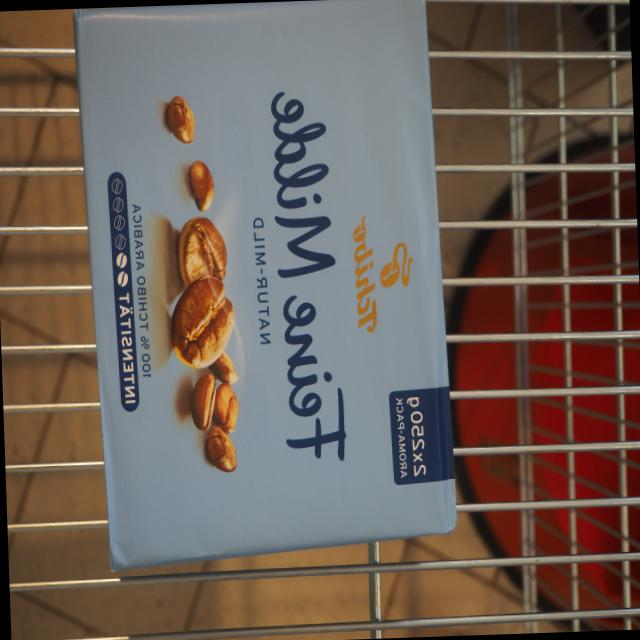FM Gemahlen: (67, 0, 461, 578)
